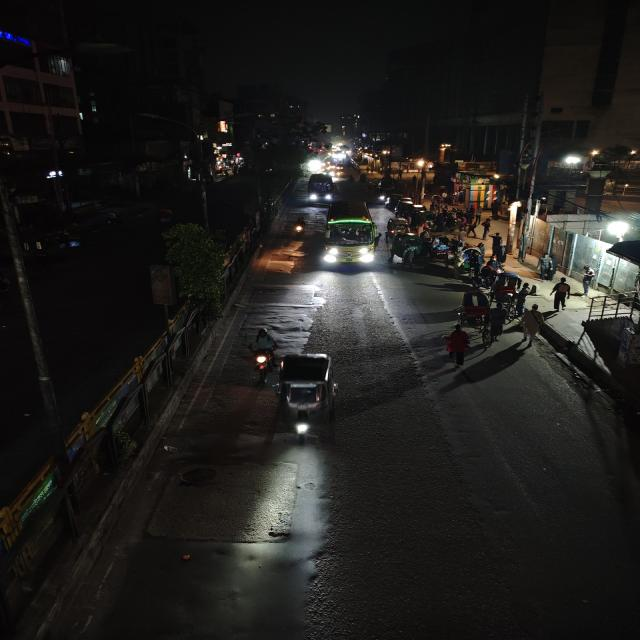bus: (322, 198, 382, 270), (602, 238, 640, 321), (306, 172, 335, 204)
cng: (276, 352, 339, 446), (384, 216, 412, 239)
motorcycle: (243, 325, 280, 383), (54, 223, 86, 255), (99, 208, 122, 230), (292, 214, 309, 238)
pedestrian: (440, 325, 473, 370), (518, 305, 547, 345), (550, 276, 572, 311), (512, 284, 534, 316), (536, 252, 557, 282), (578, 266, 597, 298), (490, 232, 507, 262), (522, 281, 536, 297), (529, 281, 540, 297), (476, 239, 487, 255)
rickshaw: (453, 287, 495, 332), (429, 234, 456, 266), (384, 217, 410, 239), (151, 206, 177, 226)
